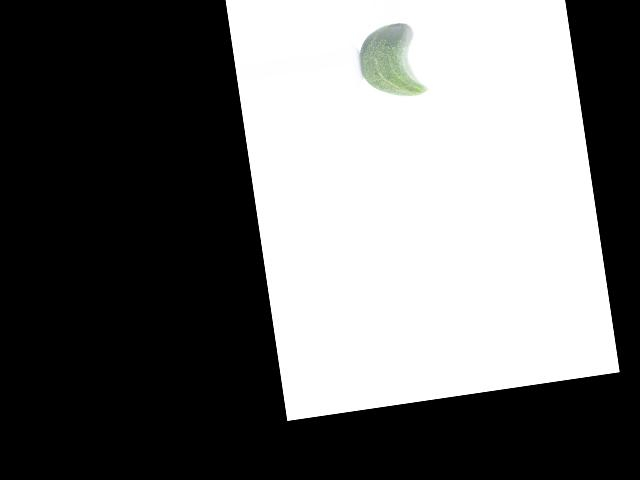cucumber: (355, 20, 427, 103)
